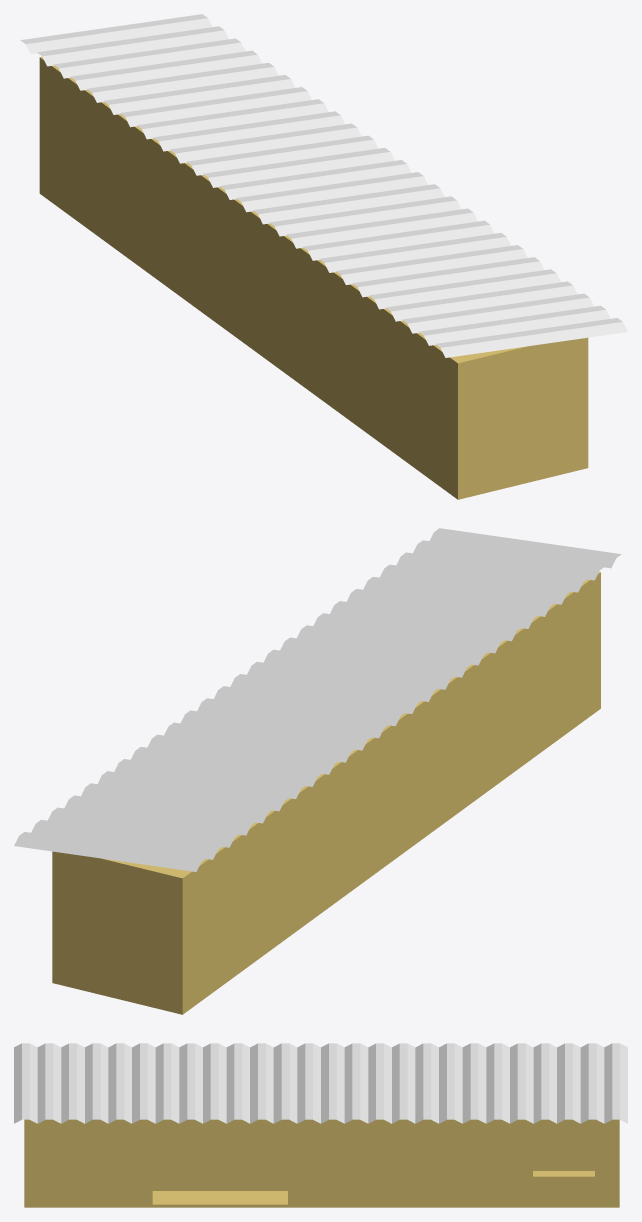
File: Untitledxfixed.glb
The picture shows the model from 3 angles, top to bottom: view 1: azimuth 30°, elevation 25°; view 2: azimuth 150°, elevation 25°; view 3: azimuth 270°, elevation 25°; orthographic projection. The views are drawn at different scales.
Visible parts, largest first — view 1: Cube, Plane; view 2: Cube, Plane; view 3: Cube, Plane.
Part boxes in pixels (bbox=[...]): Cube: bbox=[39, 56, 588, 499]; Plane: bbox=[20, 14, 627, 357]; Cube: bbox=[52, 572, 600, 1014]; Plane: bbox=[14, 528, 621, 871]; Cube: bbox=[24, 1119, 619, 1207]; Plane: bbox=[14, 1043, 627, 1123].
Size of the model in its own units: 2.81 by 2.31 by 11.47.
